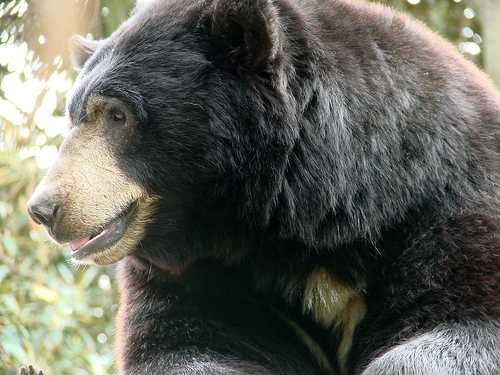bear: (23, 145, 151, 273), (54, 15, 182, 143), (179, 1, 307, 127)
